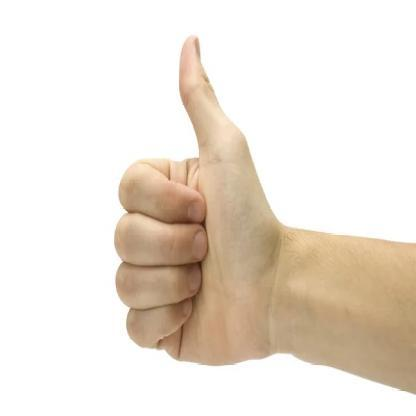thumb_up: (112, 32, 276, 369)
